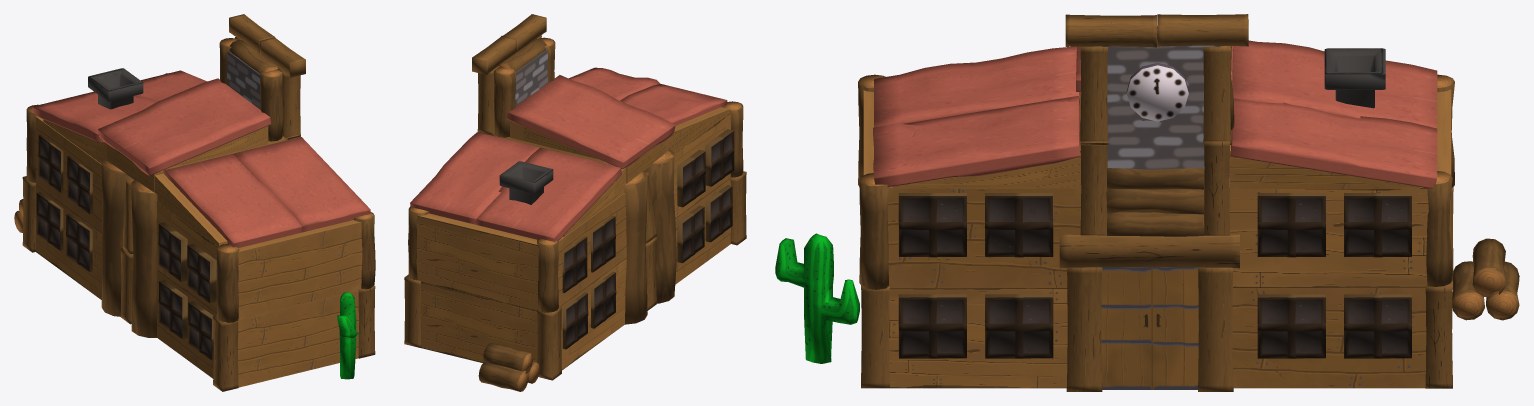
File: town hall.obj
3 views of the same model, side by side, from view 1: azimuth 30°, elevation 25°; view 2: azimuth 150°, elevation 25°; view 3: azimuth 270°, elevation 25° (orthographic). The views are drawn at different scales.
Visible parts, largest first — view 1: Cube.004_Cube.192; view 2: Cube.004_Cube.192; view 3: Cube.004_Cube.192.
Boxes of the visible parts, x1,y1,x2,y2 form: Cube.004_Cube.192: (14, 14, 375, 391); Cube.004_Cube.192: (404, 14, 746, 391); Cube.004_Cube.192: (775, 14, 1519, 391).
Bounding box in the file's own units: 8.02 × 11.73 × 21.46.
10 materials, 10 textured.
